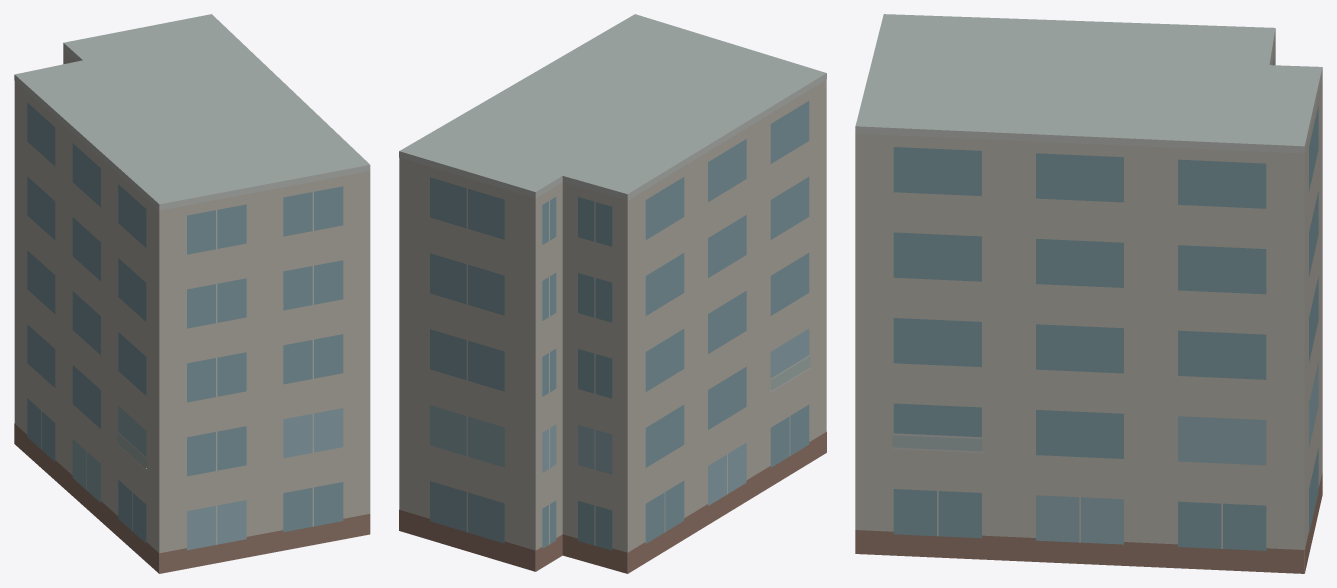
The model's file is survey-upis-32562371.glb.
3 renders of one model, left to right at view 1: azimuth 30°, elevation 25°; view 2: azimuth 150°, elevation 25°; view 3: azimuth 270°, elevation 25°, orthographic. The views are drawn at different scales.
Visible parts, largest first — view 1: survey-upis-32562371.tmp; view 2: survey-upis-32562371.tmp; view 3: survey-upis-32562371.tmp.
Part boxes in pixels (<box>): survey-upis-32562371.tmp: <box>14,14,370,573</box>; survey-upis-32562371.tmp: <box>399,14,826,573</box>; survey-upis-32562371.tmp: <box>855,14,1322,573</box>.
Size of the model in its own units: 9.63 by 14.5 by 14.37.
